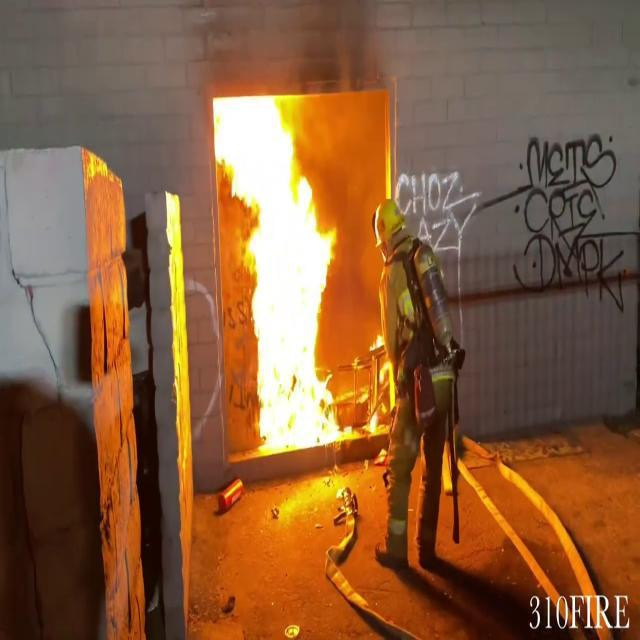Fire: (212, 90, 342, 446)
